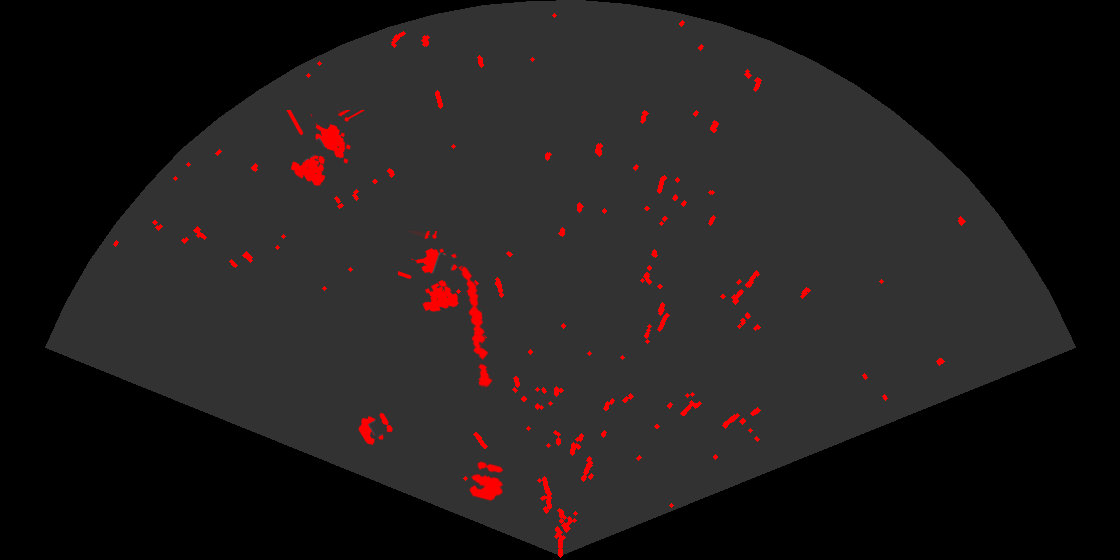ball: (467, 460, 505, 503), (357, 411, 394, 447)
cage: (285, 110, 366, 187), (398, 231, 466, 314)
chain: (460, 265, 494, 390)
